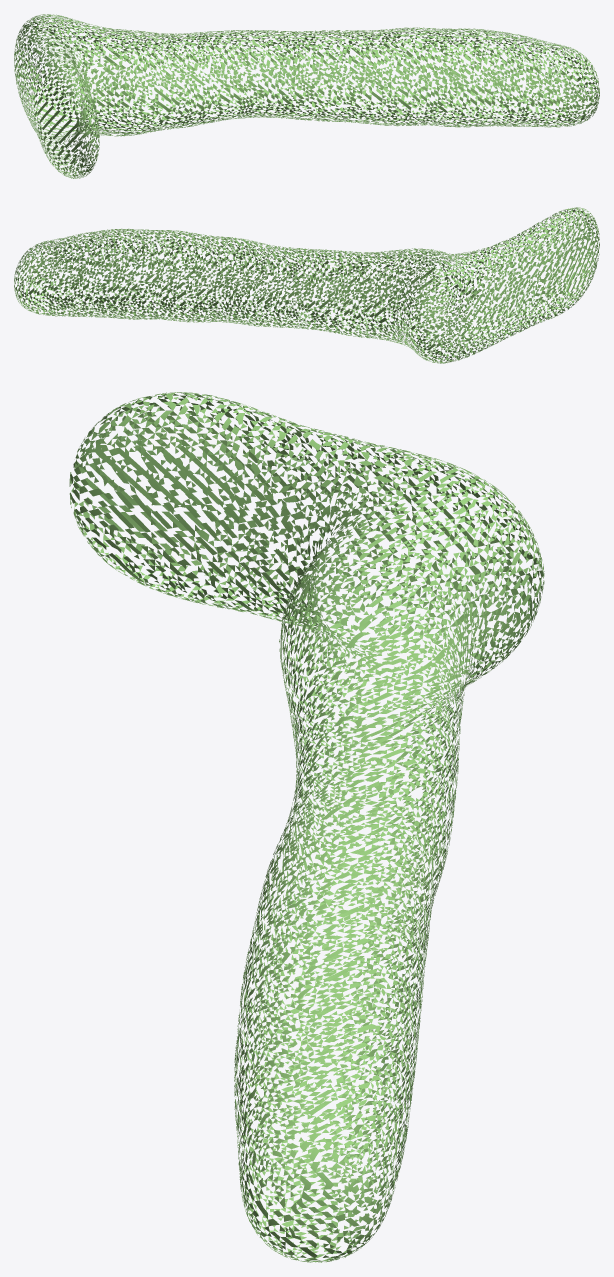
The model's file is morph_014.glb.
3 renders of one model, top to bottom at view 1: azimuth 30°, elevation 25°; view 2: azimuth 150°, elevation 25°; view 3: azimuth 270°, elevation 25°, orthographic. The views are drawn at different scales.
Bounding box in the file's own units: 125 × 44.26 × 49.18.
